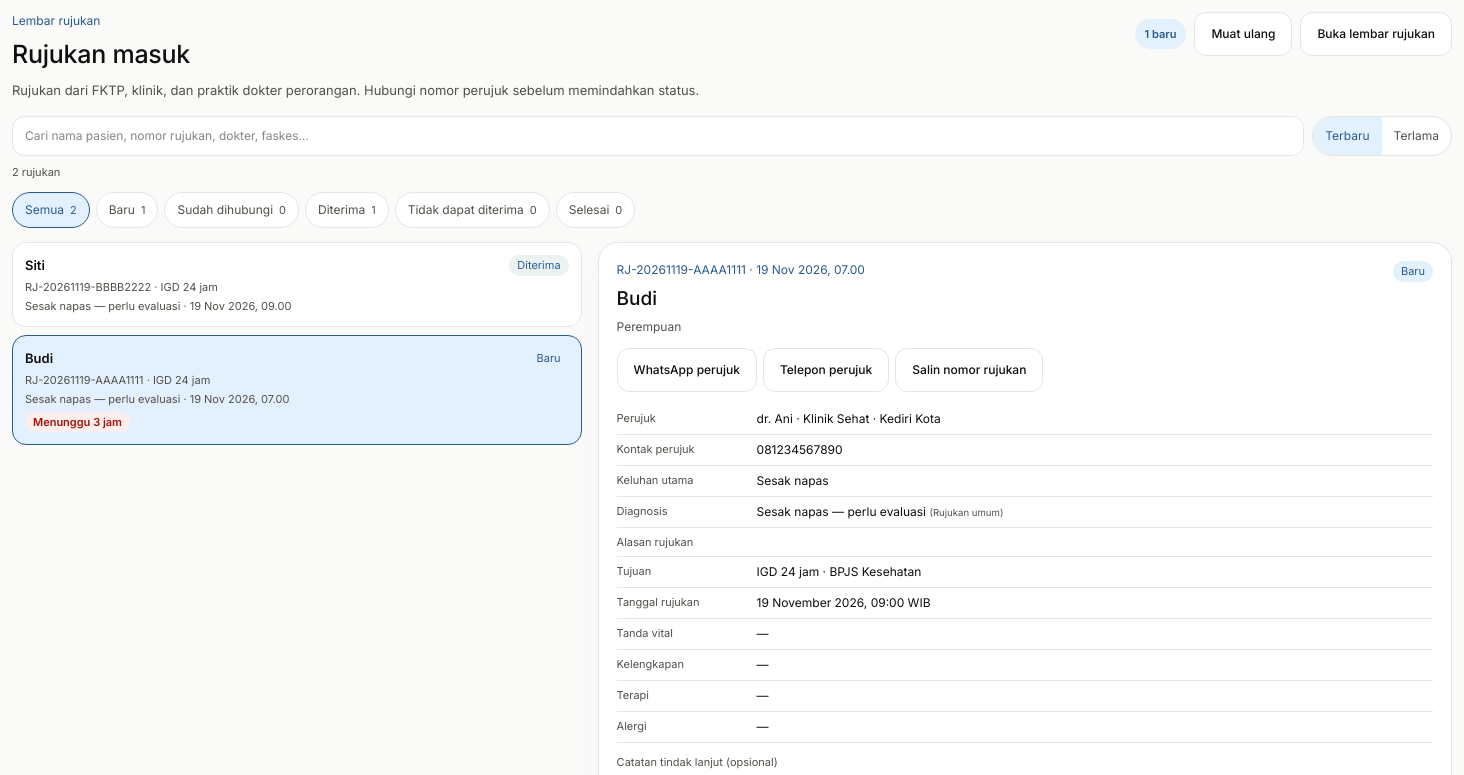
Test: referral inbox › filters by patient name
Type "Budi" into the search field named "Cari rujukan". click: (658, 136)
box: [12, 116, 1304, 156]
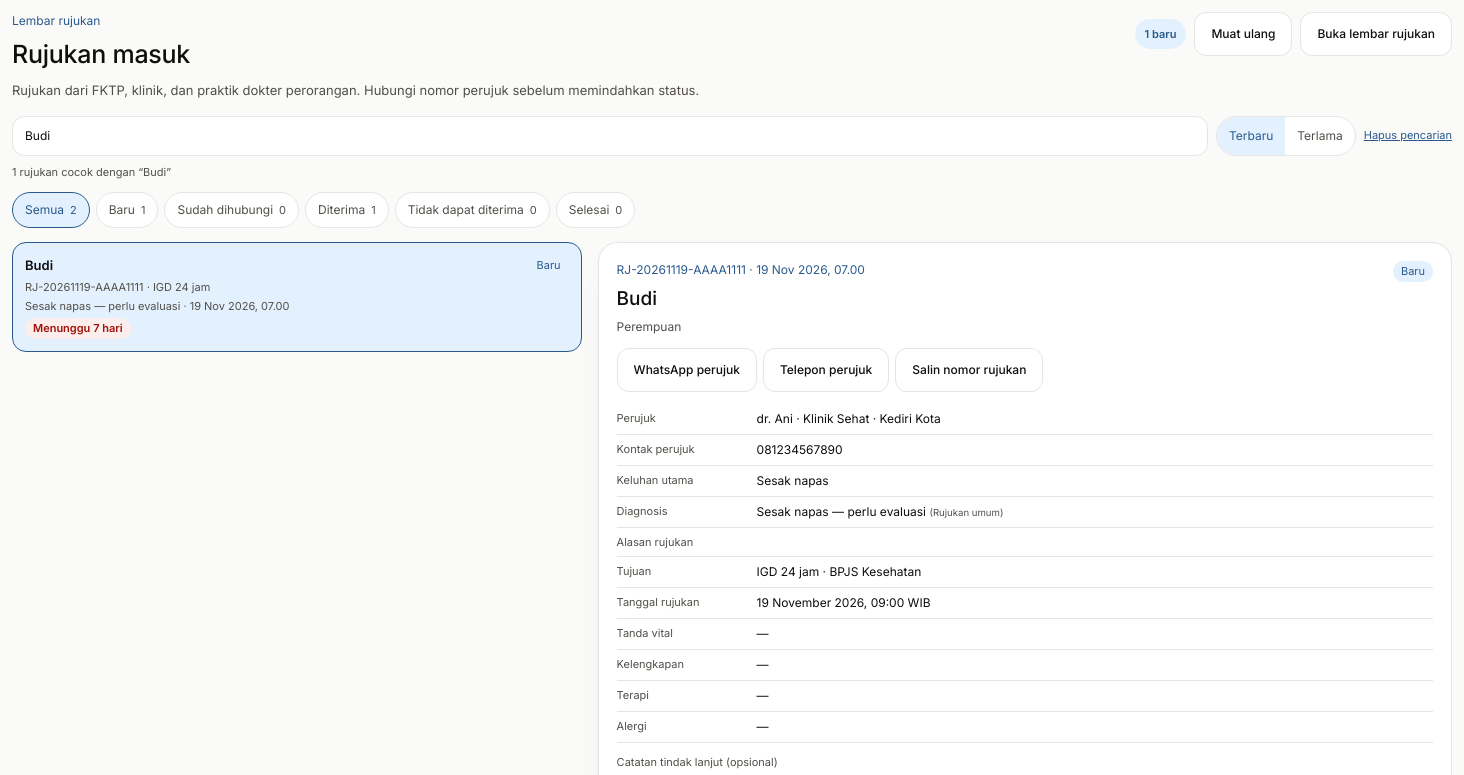
Expected: the text "Budi" is shown, [25, 256, 53, 275]
Expected: the button "Siti" is gone
Expected: the text "1 rujukan cocok dengan “Budi”" is shown, [12, 165, 171, 179]
